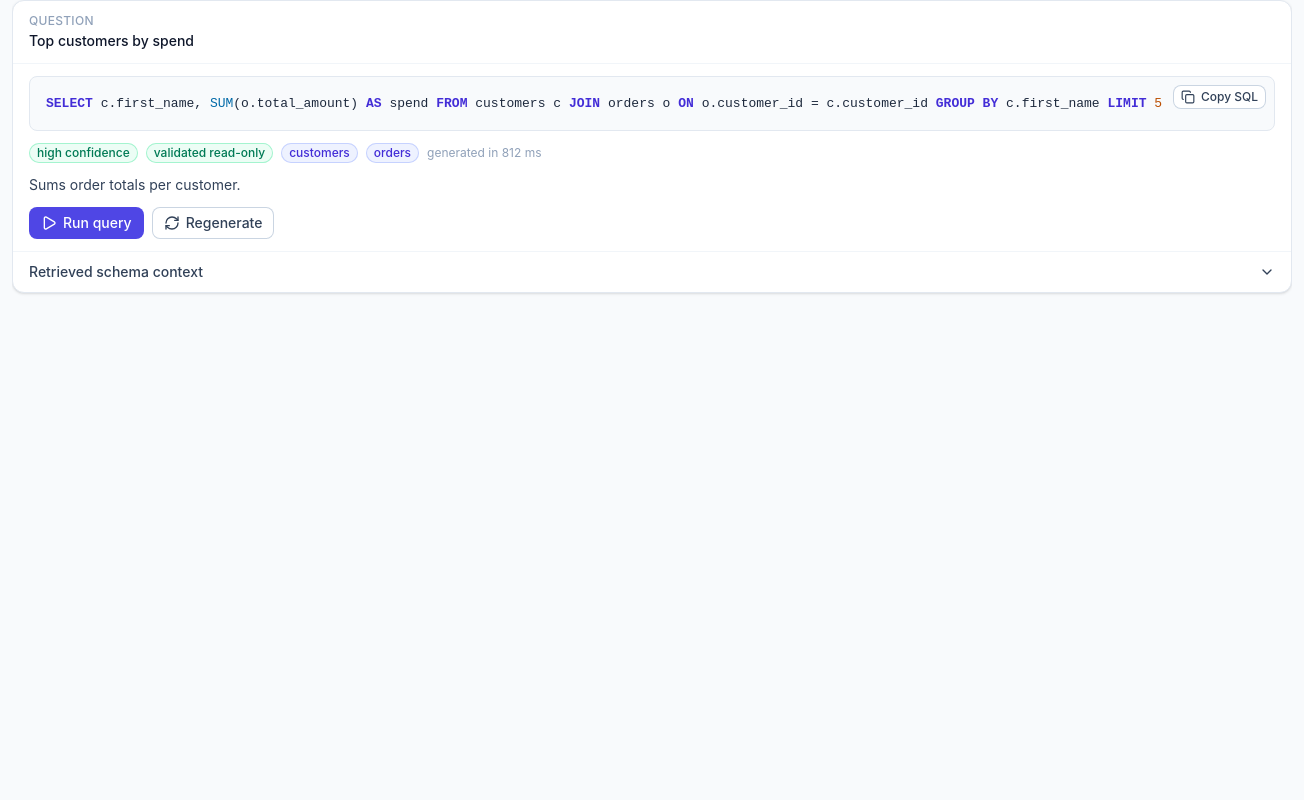
Test: TurnCard › reveals retrieval context with table sources
Click the button "Retrieved schema context". click: [116, 272]
box: x1=13 y1=252 x2=1291 y2=292
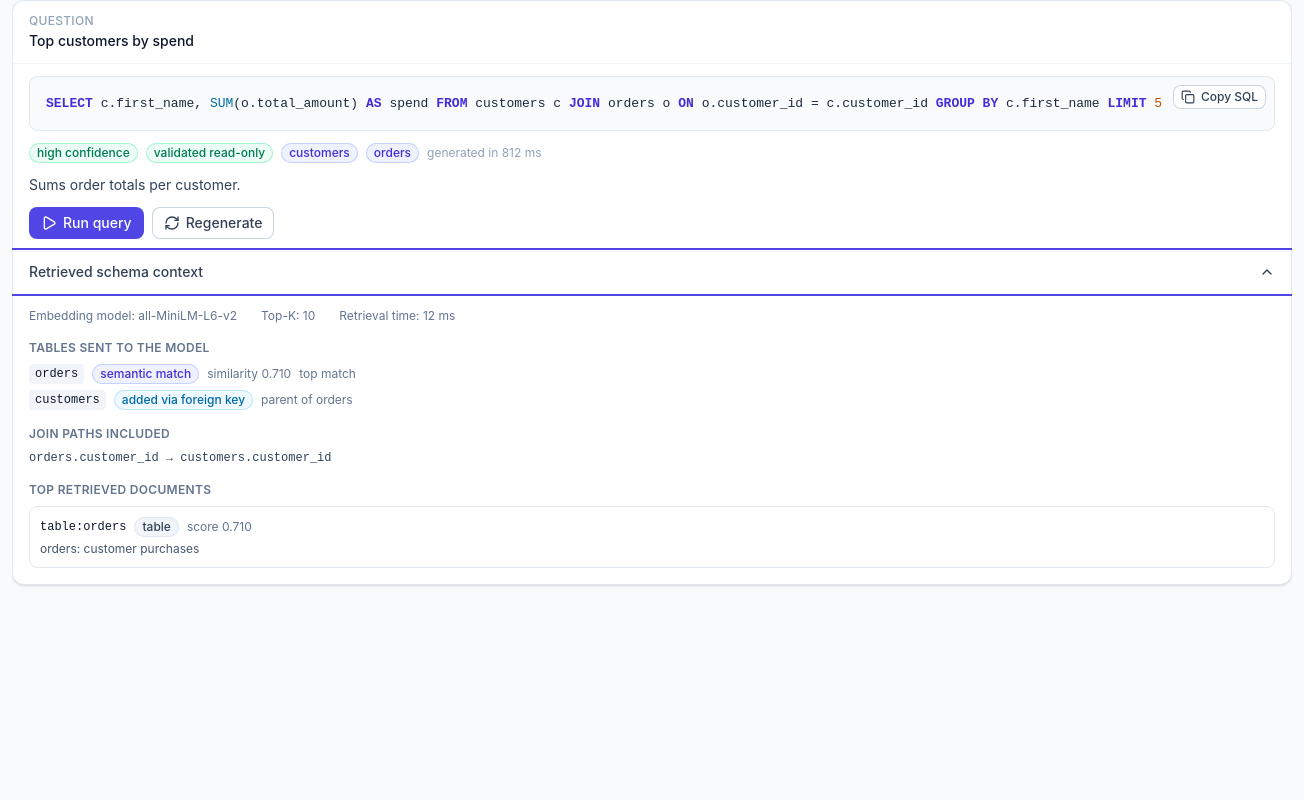
Now the text "added via foreign key" is shown, box x1=114 y1=390 x2=253 y2=410
Now the text "semantic match" is shown, box x1=92 y1=364 x2=199 y2=384
